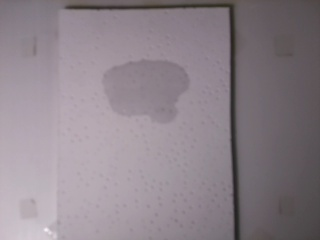Water_detected: (110, 55, 185, 110)
